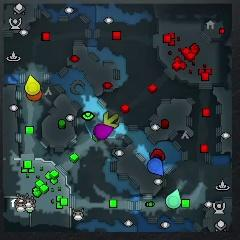p1: (148, 158, 163, 175)
p2: (165, 187, 181, 209)
p3: (95, 124, 113, 141)
p4: (25, 74, 40, 95)
p5: (25, 91, 42, 101)
x2: (103, 111, 118, 128)
